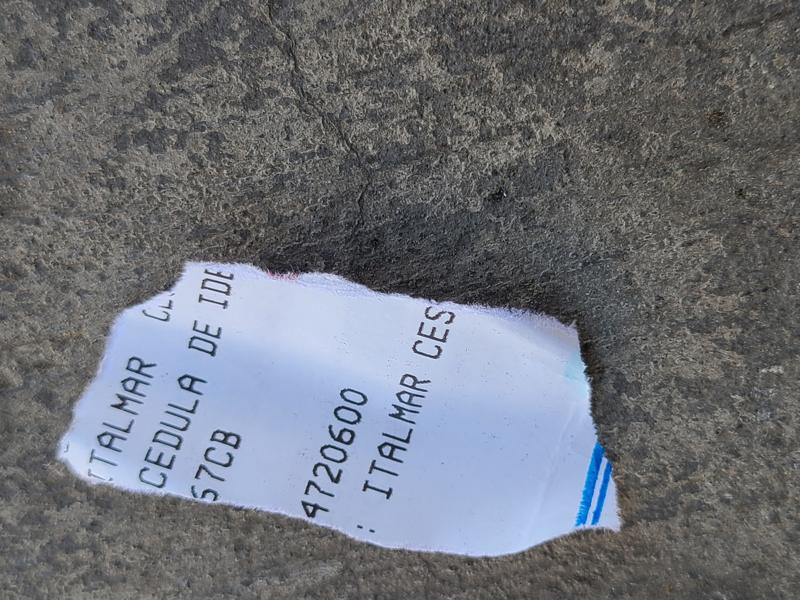papel: (55, 262, 623, 558)
